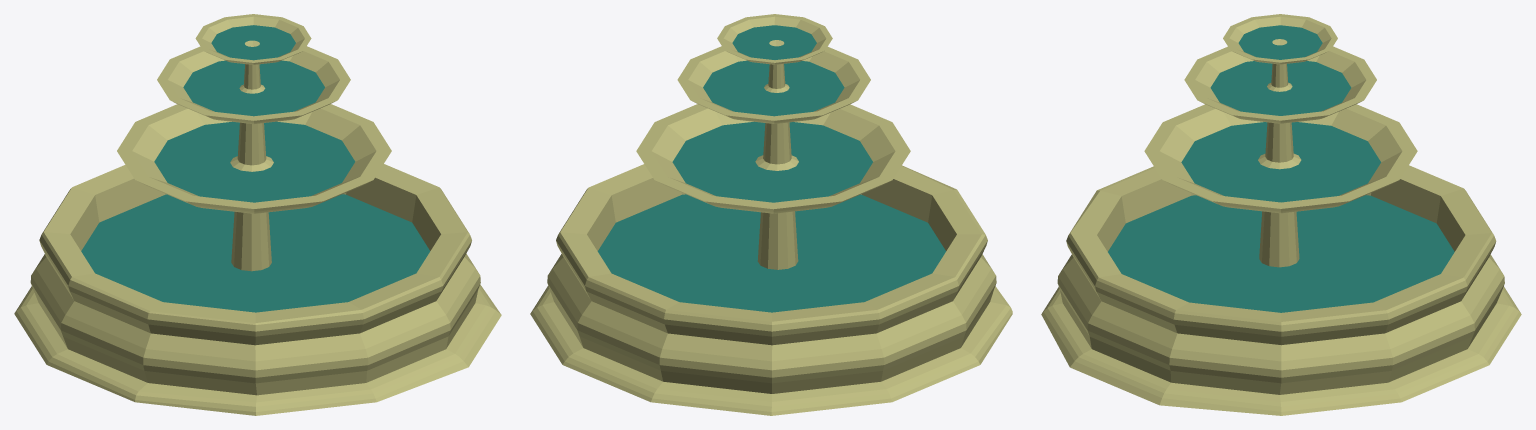
The model's file is fountain2.fbx.
3 views of the same model, side by side, from view 1: azimuth 30°, elevation 25°; view 2: azimuth 150°, elevation 25°; view 3: azimuth 270°, elevation 25° (orthographic).
Parts seen in each view (by area): view 1: Circle.002, Circle; view 2: Circle.002, Circle; view 3: Circle.002, Circle.
Boxes of the visible parts, x1,y1,x2,y2 form: Circle.002: (14, 164, 501, 415); Circle: (117, 14, 391, 271); Circle.002: (530, 164, 1012, 415); Circle: (636, 14, 910, 269); Circle.002: (1041, 165, 1521, 415); Circle: (1144, 14, 1417, 267).
Bounding box in the file's own units: 341 × 216 × 341.
